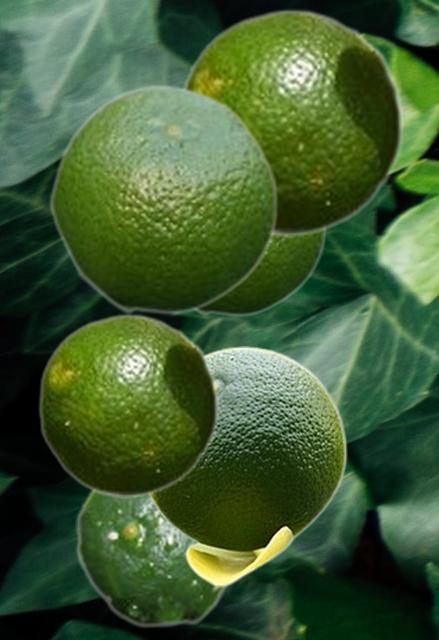calamansi: (48, 82, 278, 314), (178, 8, 404, 236), (148, 346, 346, 586), (37, 313, 219, 497), (75, 490, 232, 628), (193, 231, 326, 316)
